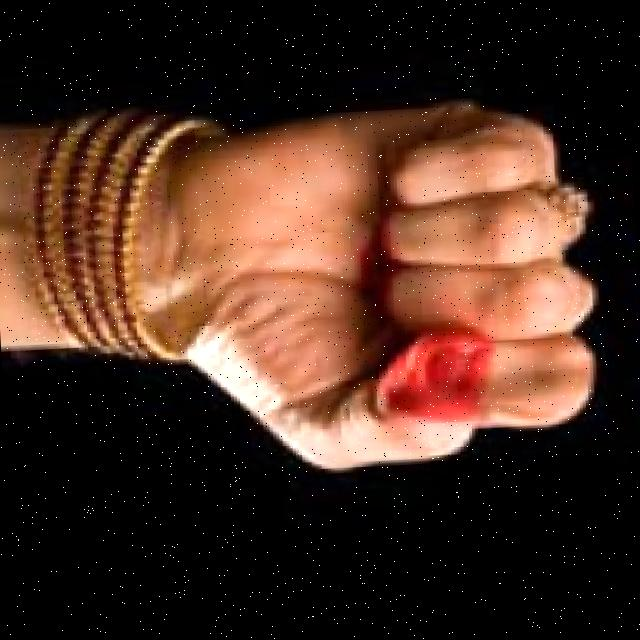Mushti: (114, 36, 617, 507)
